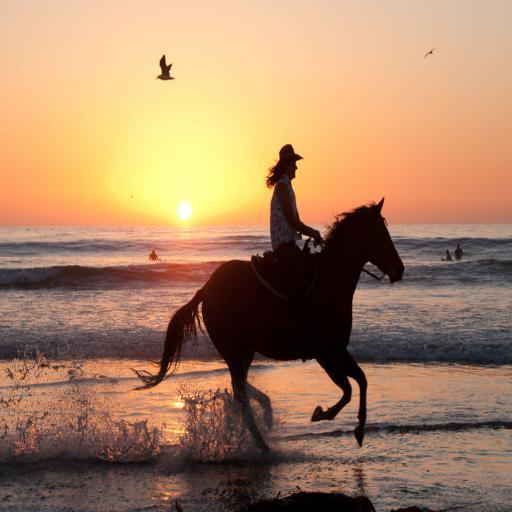horse: (128, 194, 406, 458)
